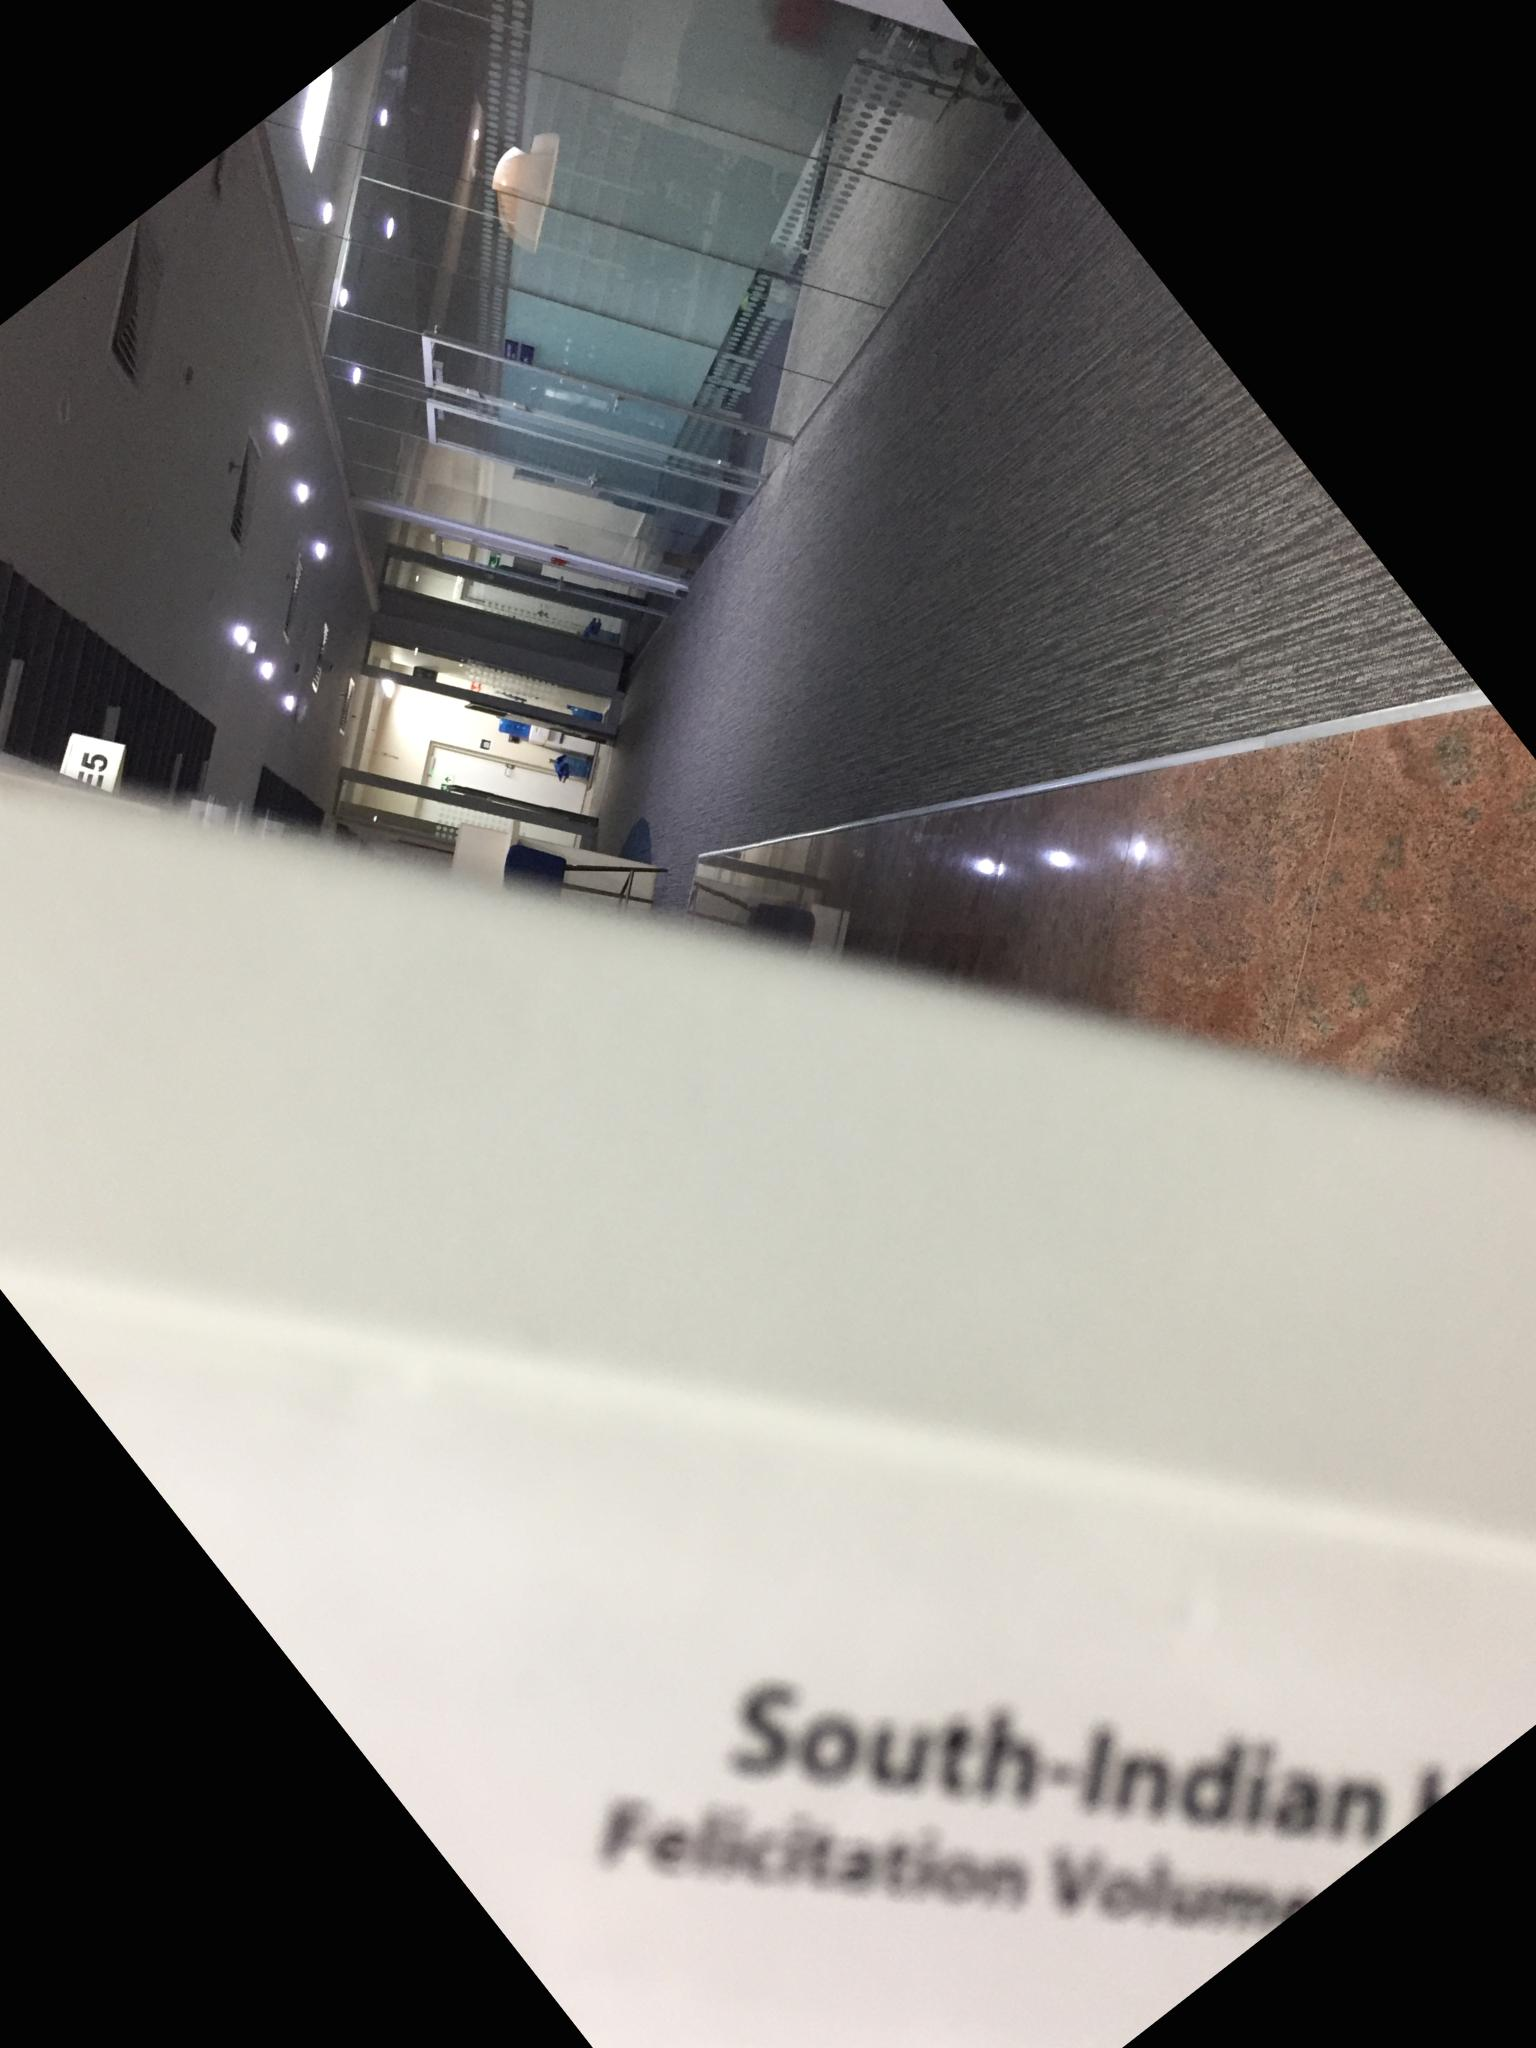chair: (492, 776, 681, 966)
